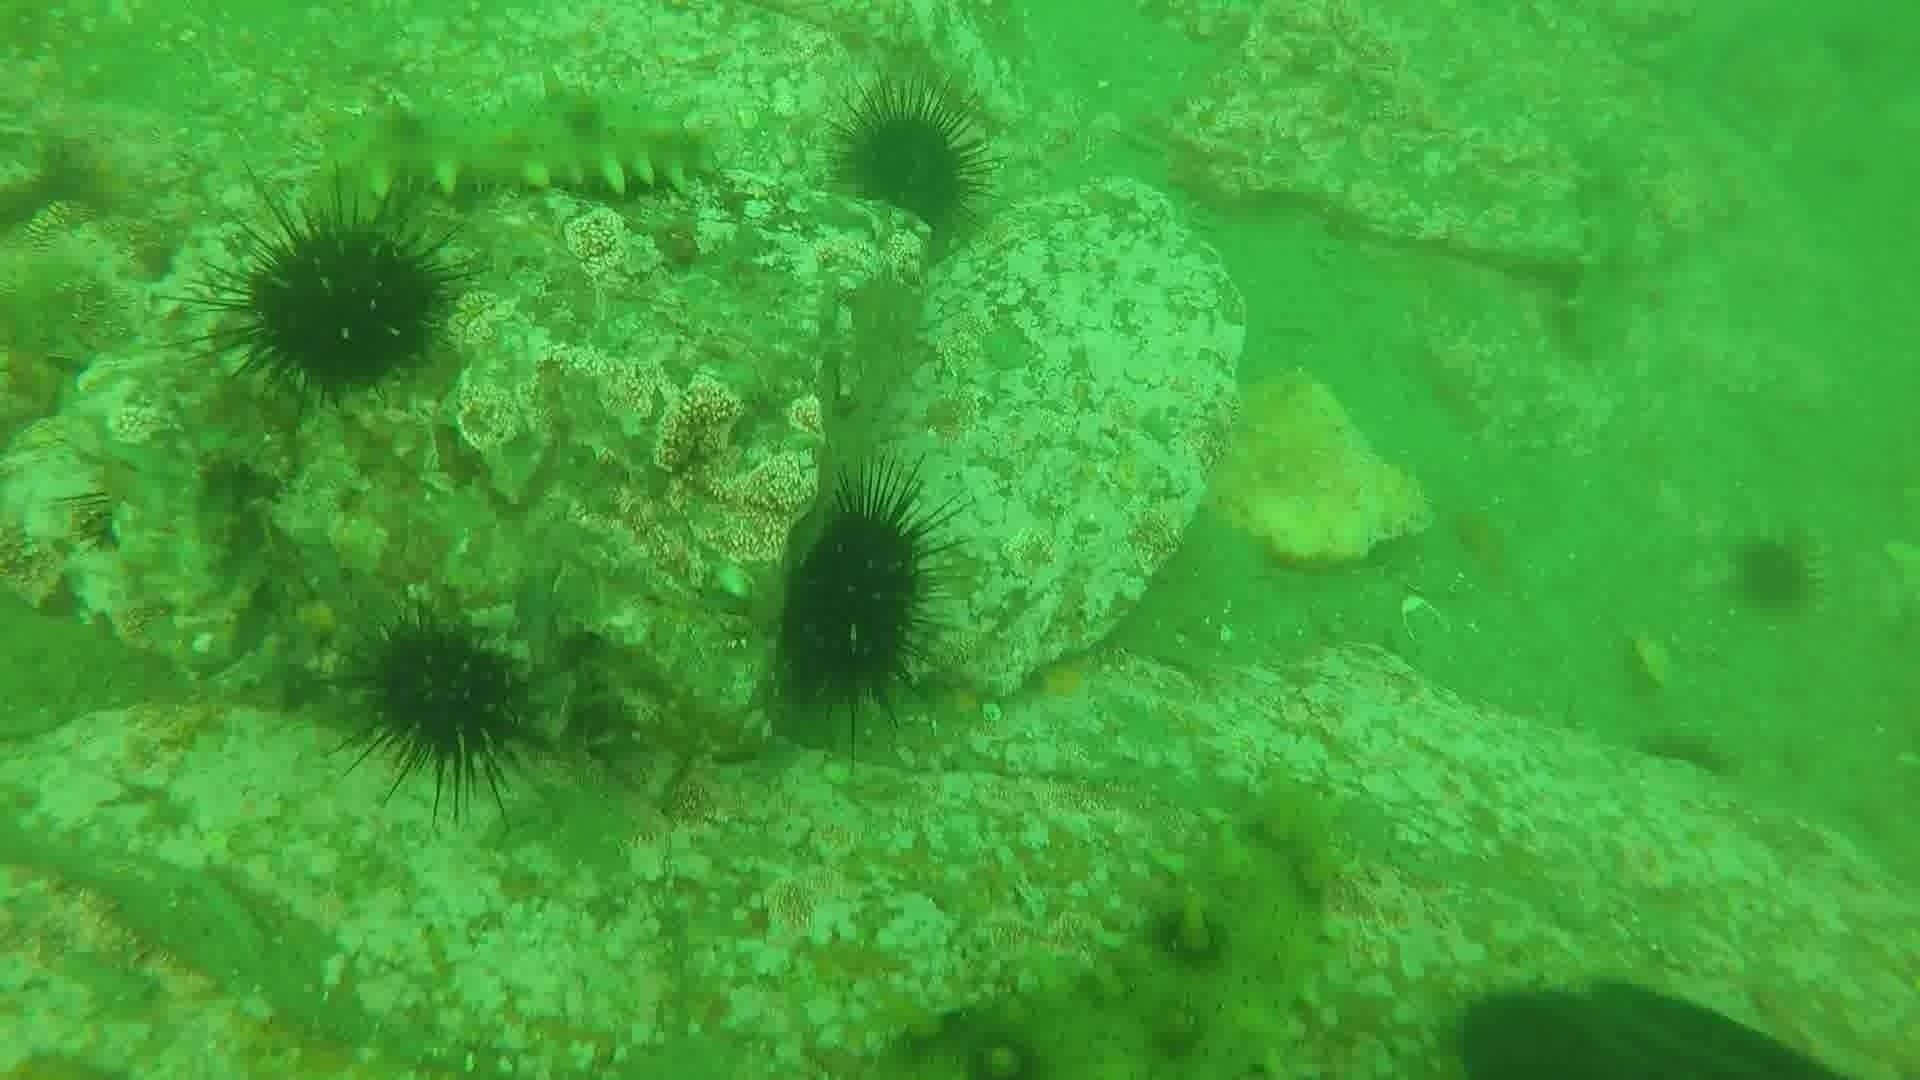echinus: (200, 190, 465, 404), (767, 469, 959, 725), (344, 615, 542, 804), (825, 80, 996, 237), (1727, 531, 1817, 615)
holothurian: (907, 790, 1352, 1077), (307, 84, 720, 216), (1555, 142, 1665, 363)
